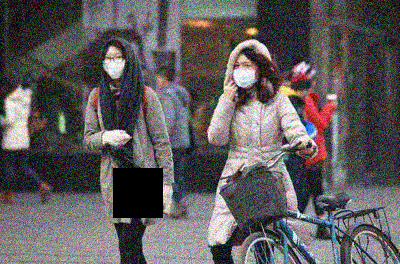with_mask: (232, 60, 257, 89), (101, 52, 125, 80)
